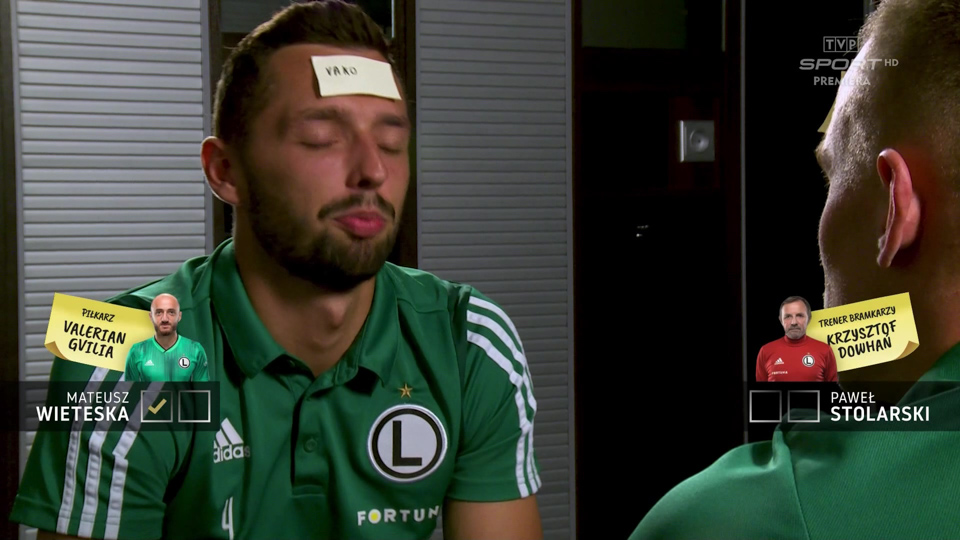Adidas: (206, 415, 254, 463)
